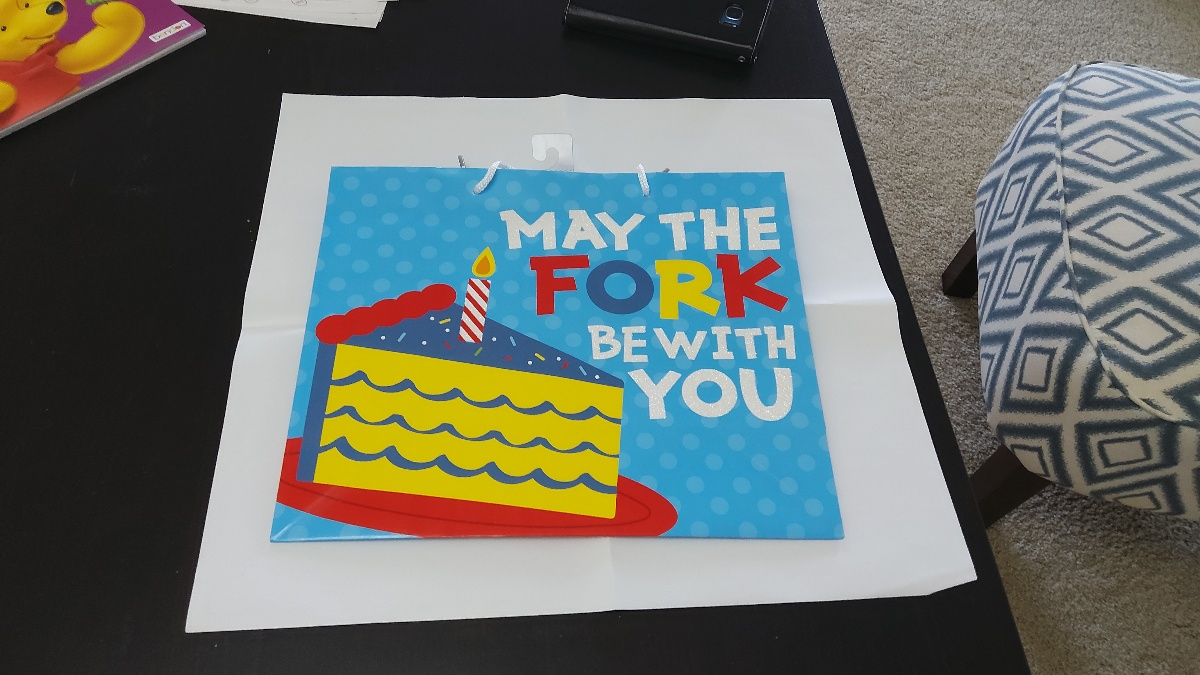paper_bag: (329, 171, 795, 532)
